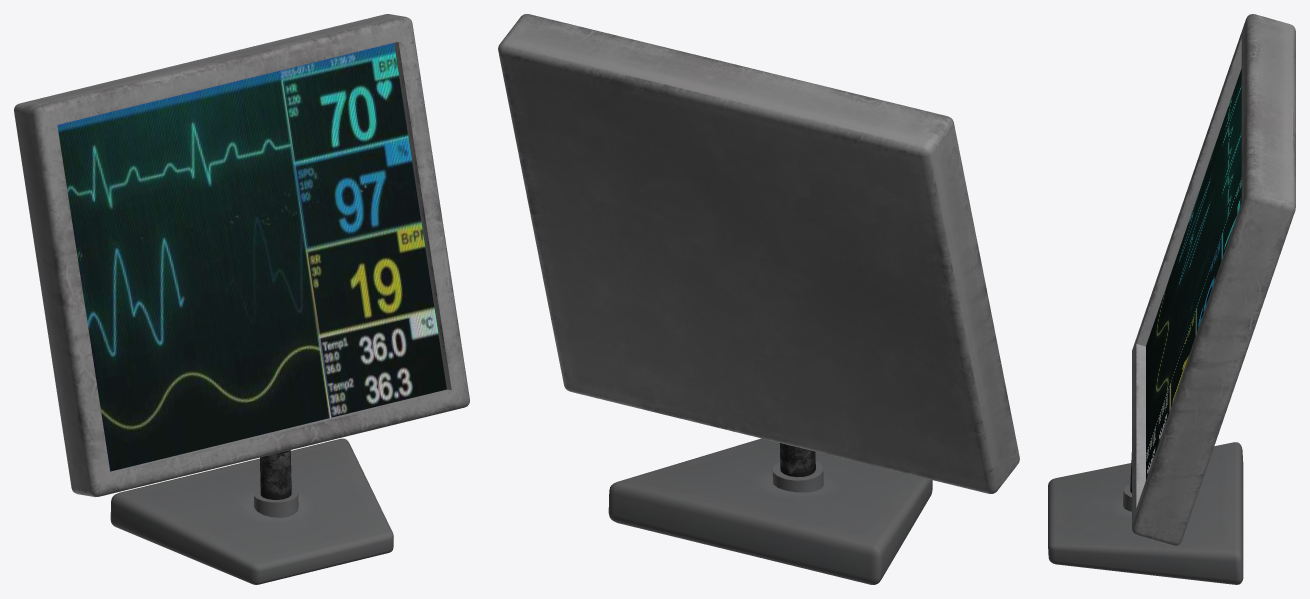
File: heart-rate-monitor.glb
3 renders of one model, left to right at view 1: azimuth 30°, elevation 25°; view 2: azimuth 150°, elevation 25°; view 3: azimuth 270°, elevation 25°, orthographic. The views are drawn at different scales.
Visible parts, largest first — view 1: Monitor, Monitor.001; view 2: Monitor, Monitor.001; view 3: Monitor, Monitor.001.
Boxes of the visible parts, left/top/right/bottom form: Monitor: left=14, top=14, right=469, bottom=497; Monitor.001: left=110, top=438, right=393, bottom=584; Monitor: left=498, top=14, right=1019, bottom=493; Monitor.001: left=608, top=438, right=932, bottom=584; Monitor: left=1132, top=14, right=1295, bottom=545; Monitor.001: left=1048, top=442, right=1243, bottom=584.
Size of the model in its own units: 43.88 by 47.98 by 25.13.
1 material, 1 textured.
